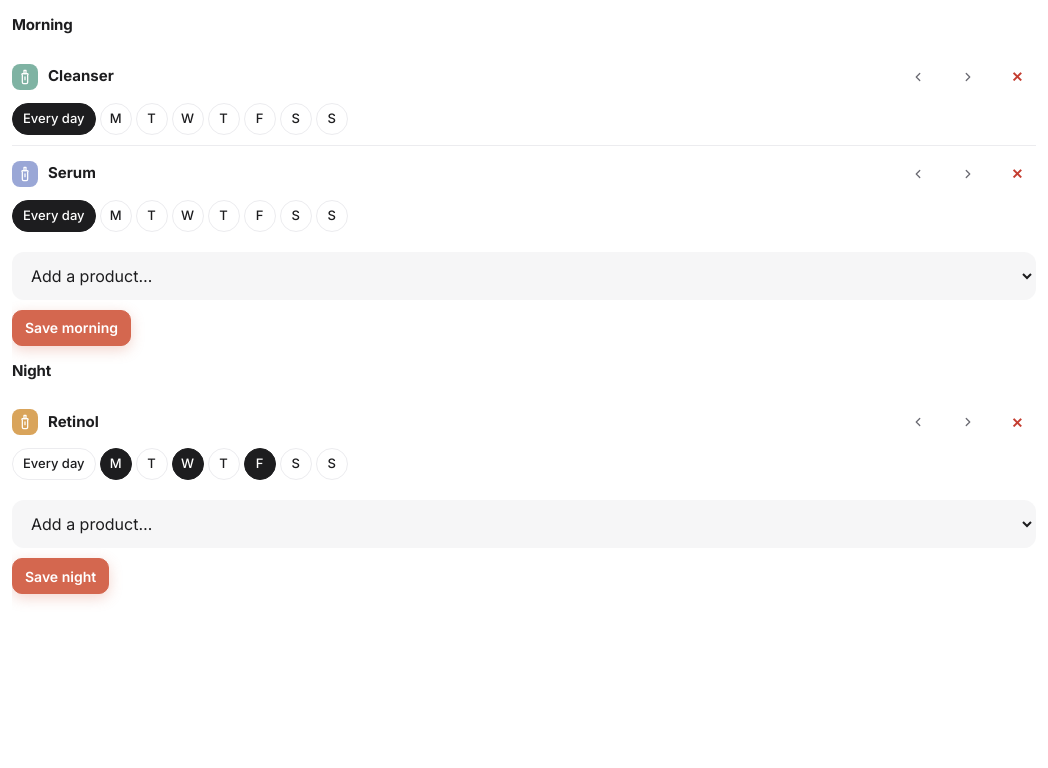
Test case: RoutineEditor › shows the server's error
The width and height of the screenshot is (1048, 768).
Expected: the element "Night" is shown, [12,360,1036,594]
Click the button "Save night".
click(61, 576)  # box [12,558,109,594]
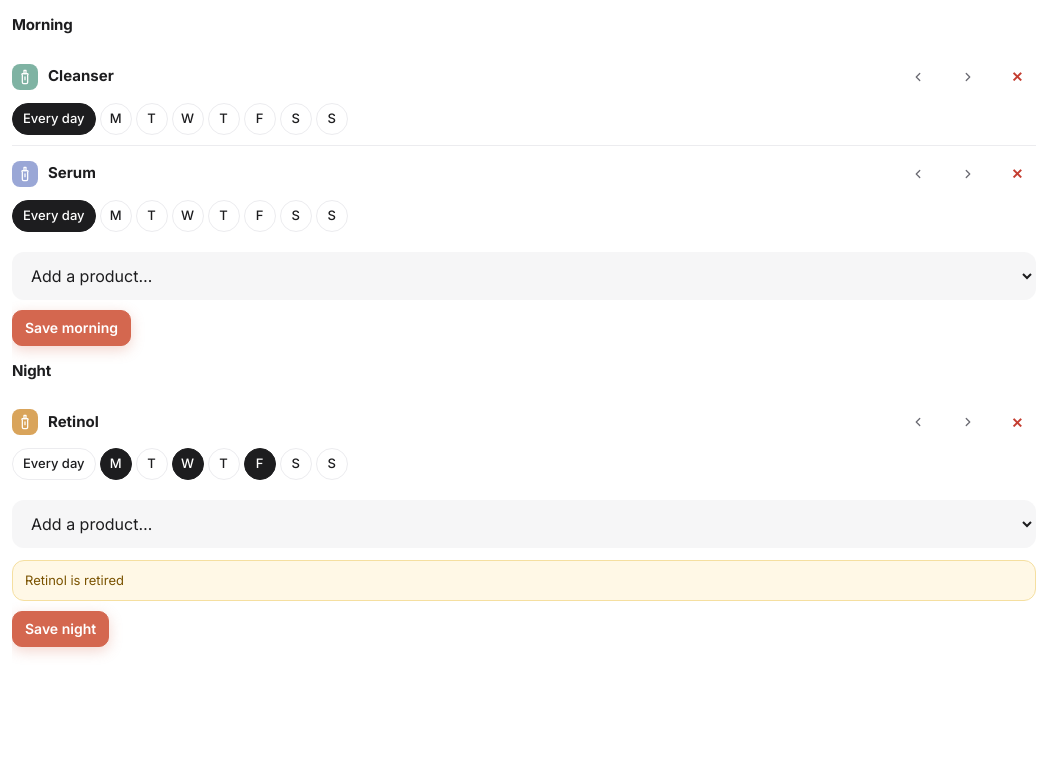
Expected: the message reads "Retinol is retired", [25,572,124,588]
